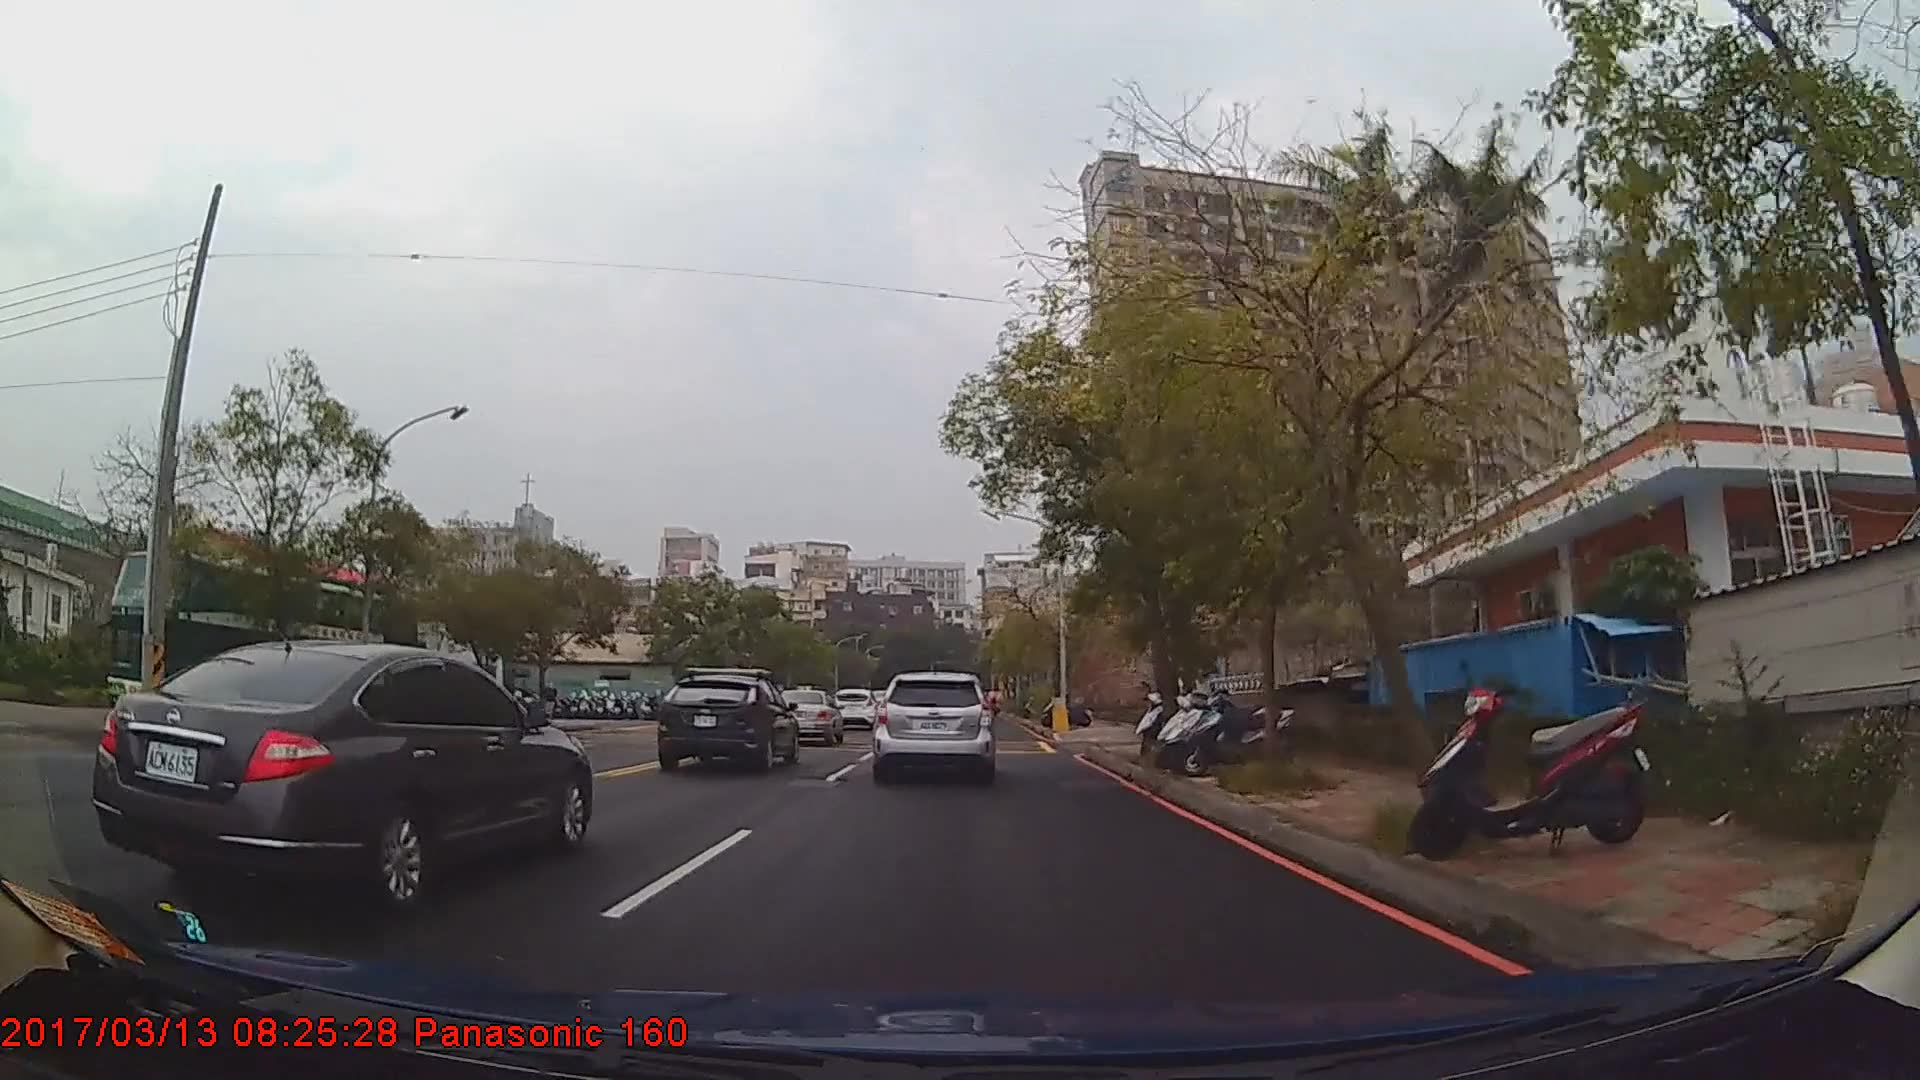vehicle: (90, 638, 592, 909), (94, 543, 418, 744), (654, 673, 800, 777), (872, 670, 993, 782), (771, 687, 840, 746), (829, 686, 878, 729)
